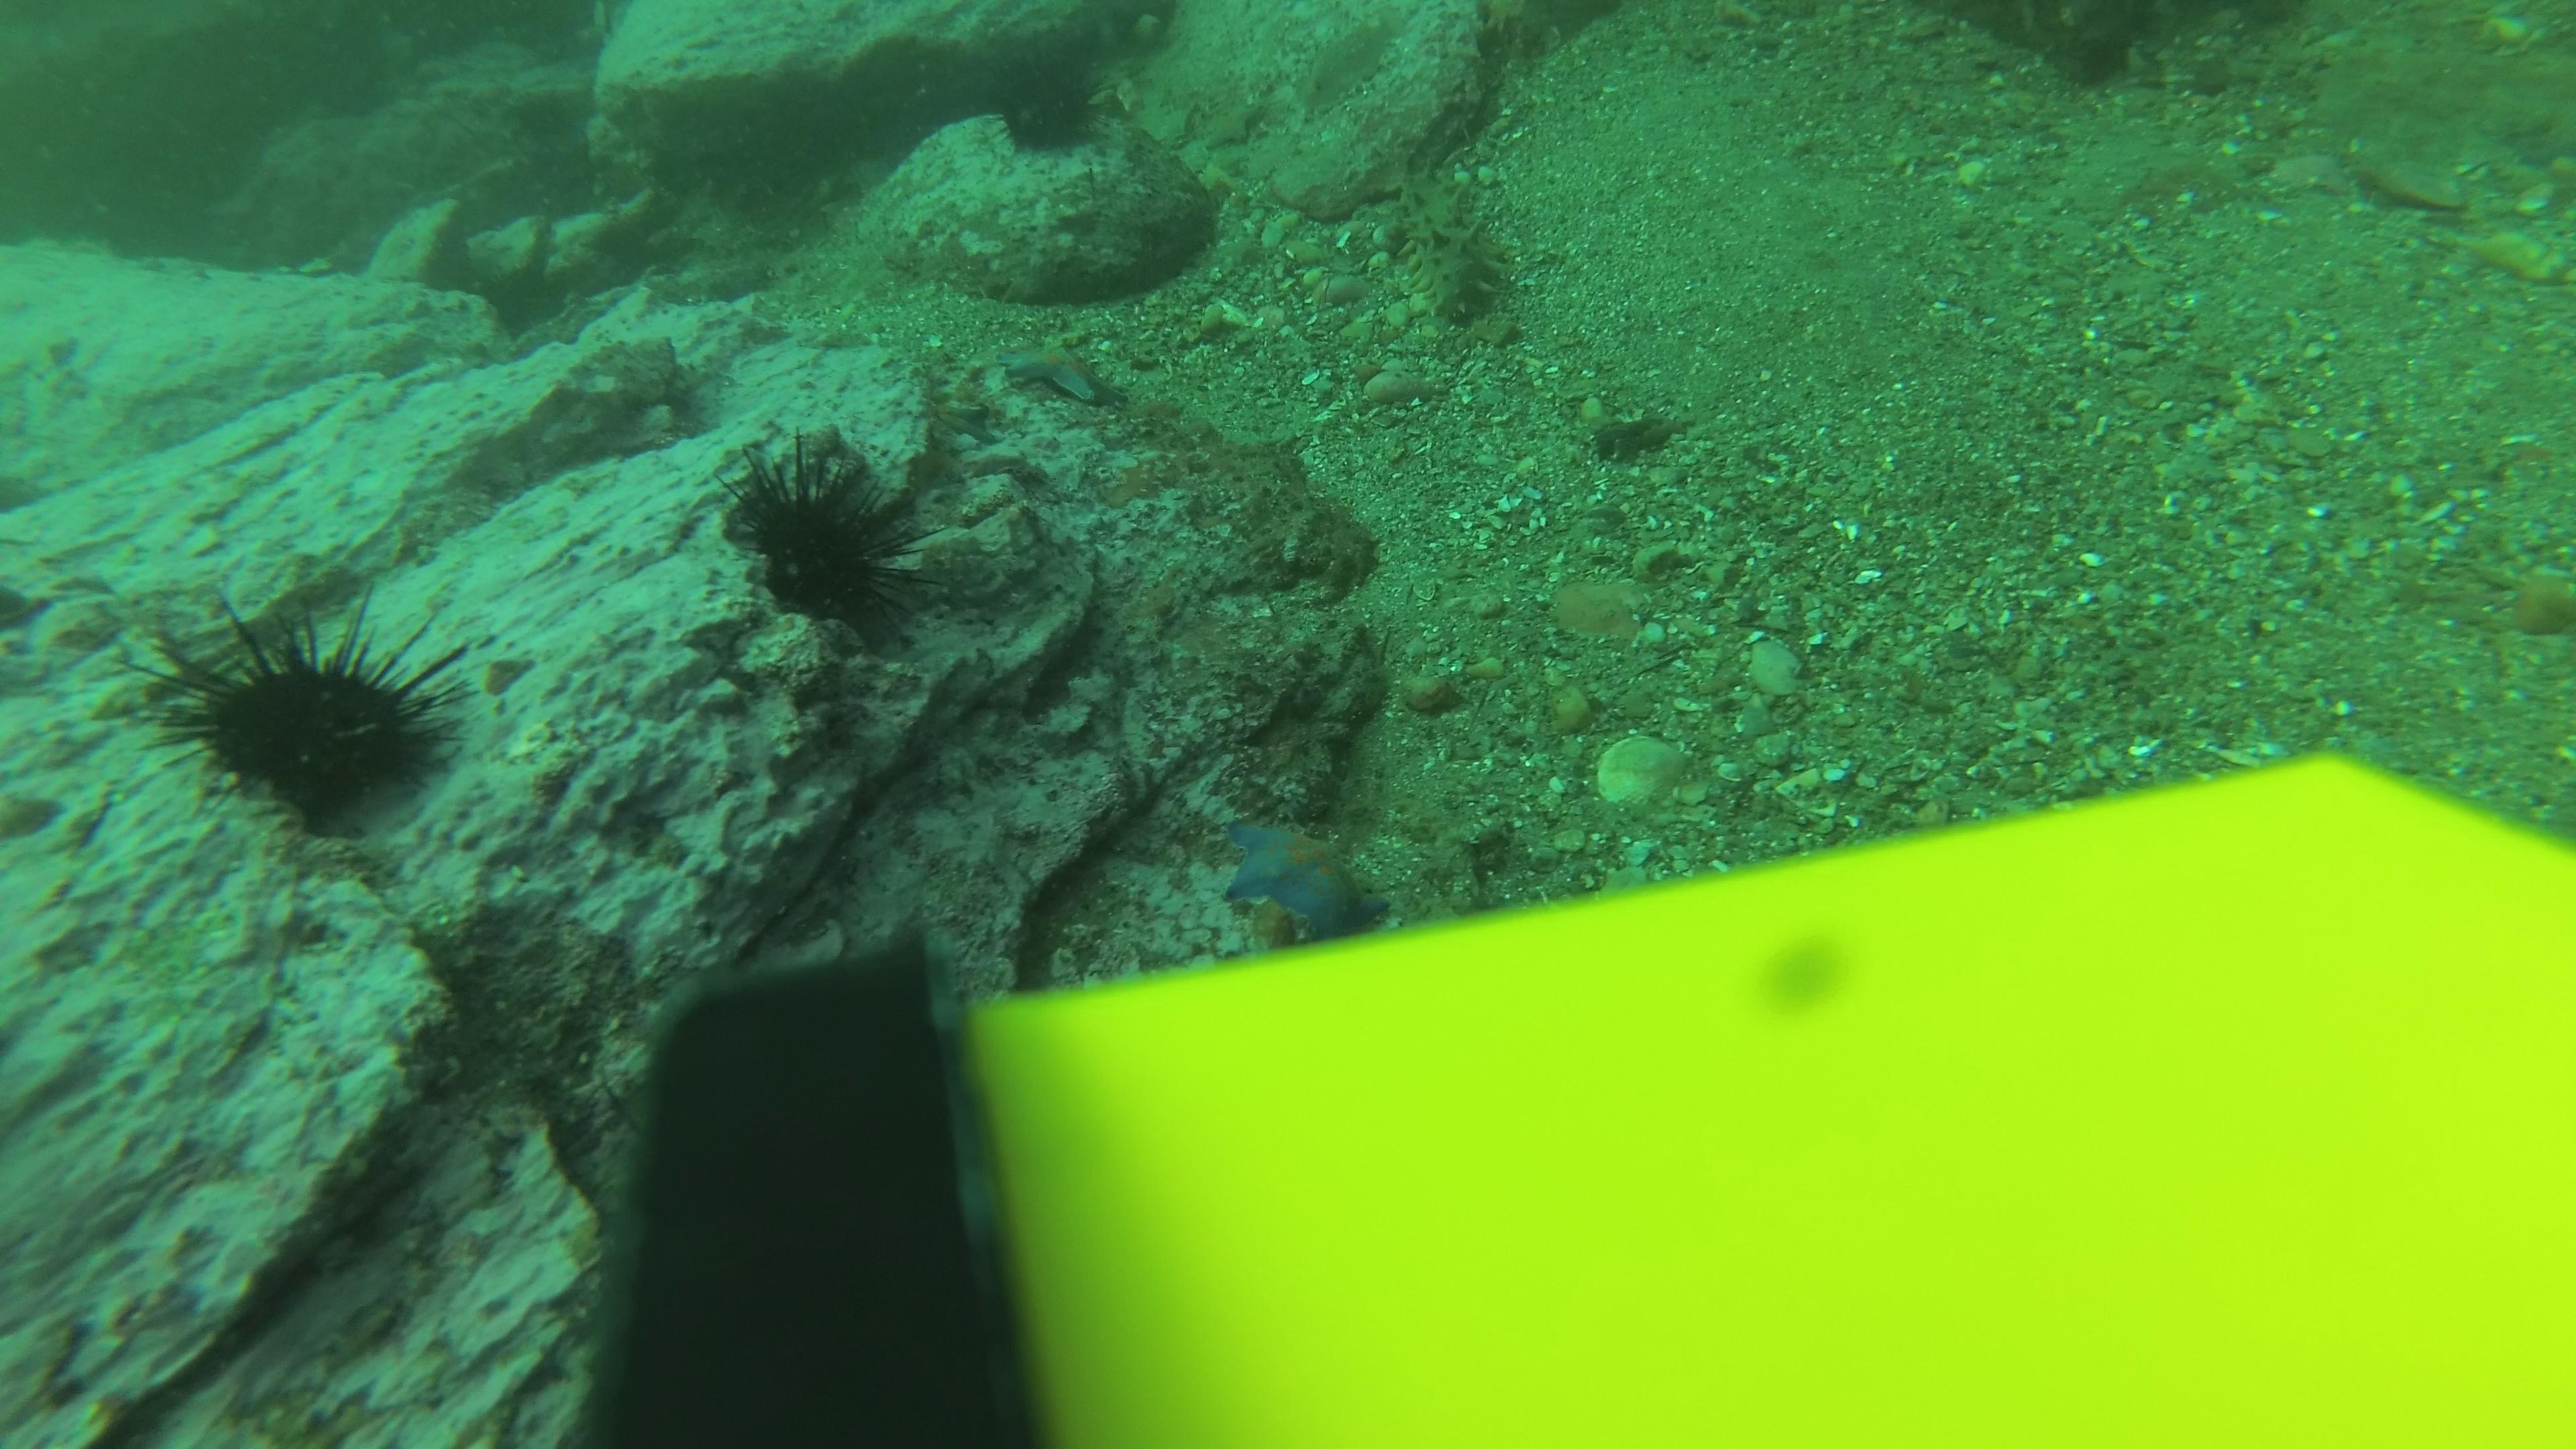echinus: (138, 589, 472, 832), (717, 428, 936, 639), (987, 57, 1113, 159)
holothurian: (1387, 157, 1520, 345)
starfish: (1215, 809, 1396, 941), (994, 341, 1127, 409)
